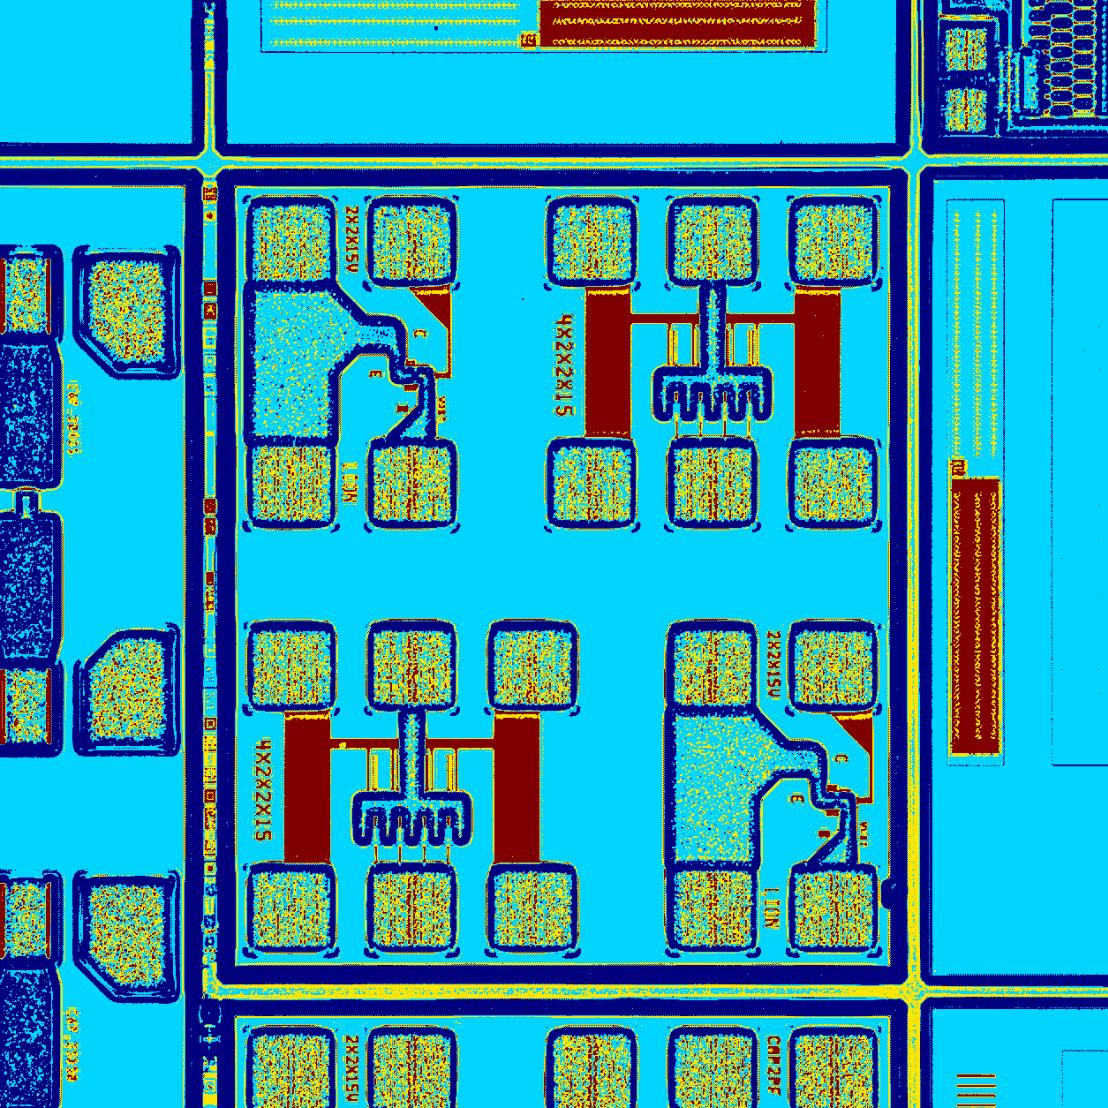Die: (214, 167, 907, 986)
Pad 3: (674, 871, 752, 948), (794, 871, 874, 947), (673, 631, 751, 706), (253, 872, 331, 947), (252, 445, 331, 520), (495, 871, 572, 946), (673, 205, 751, 279), (253, 631, 331, 704), (372, 631, 451, 704), (494, 631, 571, 704), (673, 447, 751, 520), (792, 447, 871, 520), (254, 207, 329, 281), (373, 446, 449, 520), (795, 631, 872, 704), (554, 447, 631, 520), (554, 206, 631, 278), (373, 874, 451, 946), (795, 205, 871, 278), (373, 206, 449, 278)
